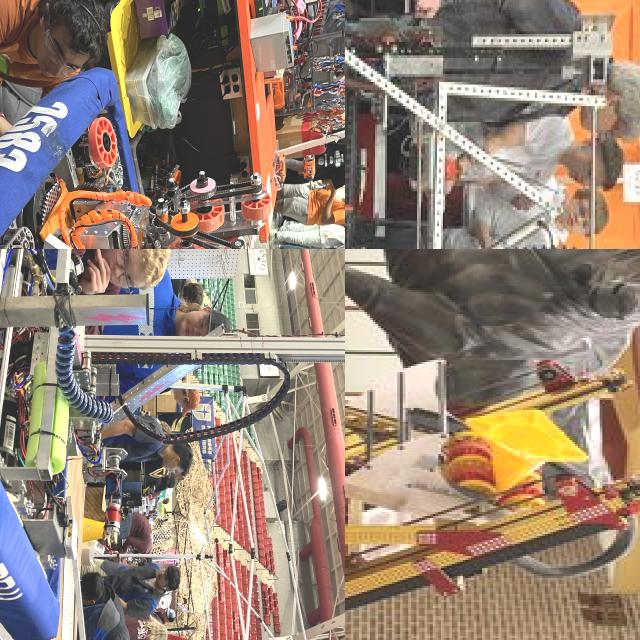FRC-Robots: (0, 249, 345, 640), (345, 307, 640, 640), (0, 36, 345, 249), (345, 0, 640, 249)
